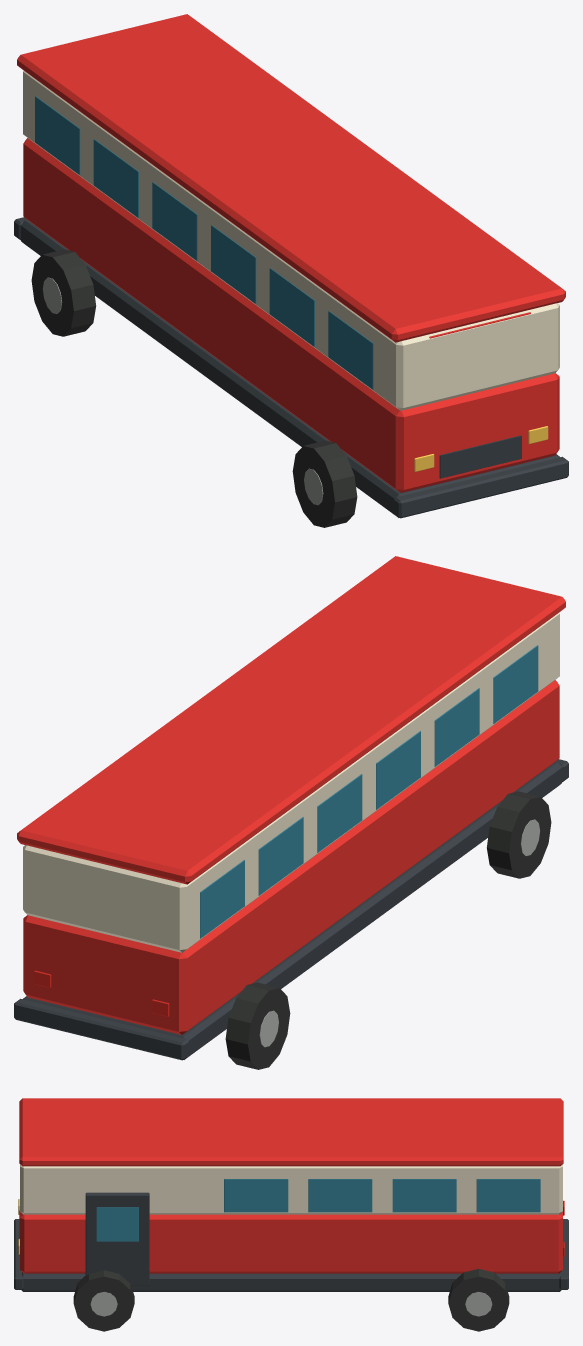
The model's file is RedBus.glb.
3 renders of one model, top to bottom at view 1: azimuth 30°, elevation 25°; view 2: azimuth 150°, elevation 25°; view 3: azimuth 270°, elevation 25°, orthographic. The views are drawn at different scales.
Parts seen in each view (by area): view 1: FTF_Vehicle_TeamBus_Red_10m_Mesh; view 2: FTF_Vehicle_TeamBus_Red_10m_Mesh; view 3: FTF_Vehicle_TeamBus_Red_10m_Mesh.
Boxes of the visible parts, left/top/right/bottom form: FTF_Vehicle_TeamBus_Red_10m_Mesh: left=14, top=14, right=568, bottom=527; FTF_Vehicle_TeamBus_Red_10m_Mesh: left=14, top=556, right=568, bottom=1069; FTF_Vehicle_TeamBus_Red_10m_Mesh: left=14, top=1098, right=568, bottom=1331.
Size of the model in its own units: 3.32 by 3.38 by 10.22.
